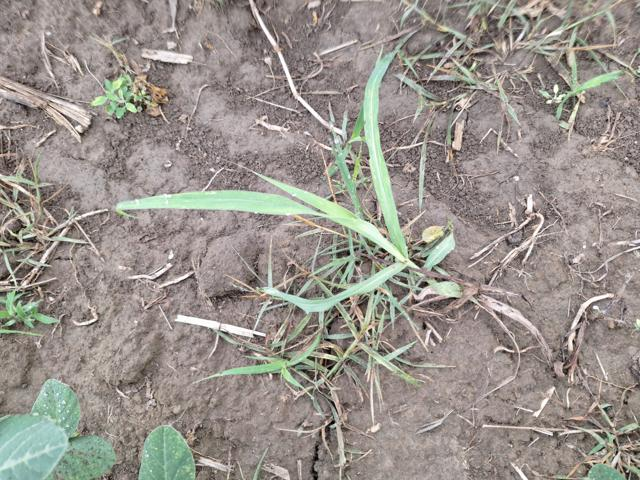bad weed: (148, 60, 520, 405), (391, 0, 640, 130), (0, 134, 113, 354), (563, 392, 640, 480), (77, 69, 189, 125)
